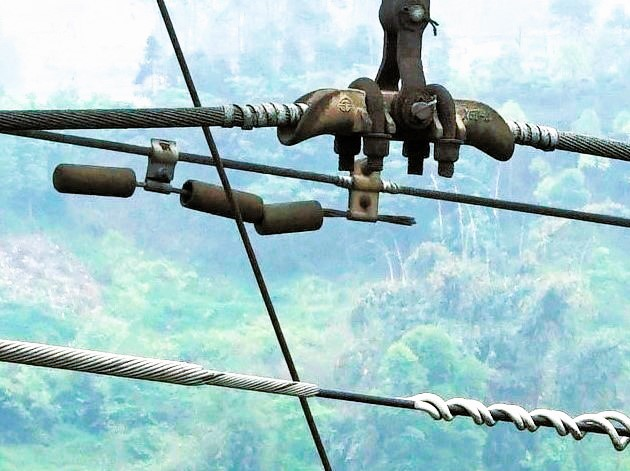Damage of shockproof hammer: (254, 161, 423, 247)
